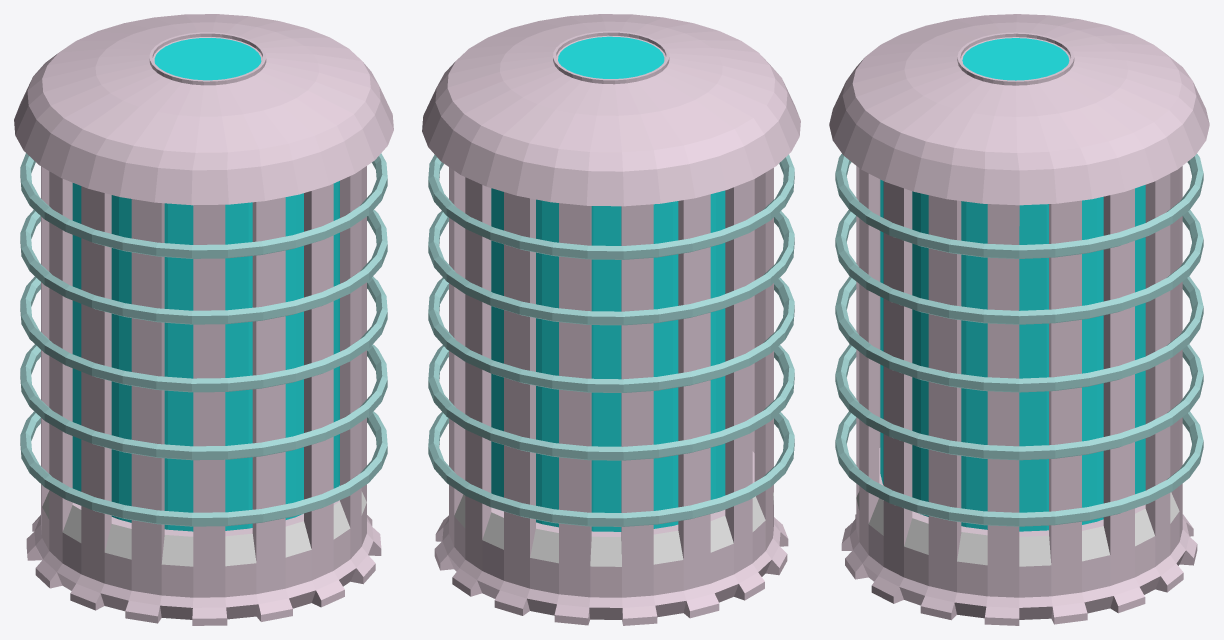
The model's file is generaattori.fbx.
3 renders of one model, left to right at view 1: azimuth 30°, elevation 25°; view 2: azimuth 150°, elevation 25°; view 3: azimuth 270°, elevation 25°, orthographic.
Visible parts, largest first — view 1: Cylinder; view 2: Cylinder; view 3: Cylinder.
Boxes of the visible parts, x1,y1,x2,y2 form: Cylinder: [14, 14, 393, 625]; Cylinder: [422, 14, 800, 625]; Cylinder: [829, 14, 1209, 625].
Size of the model in its own units: 125 by 179 by 125.
